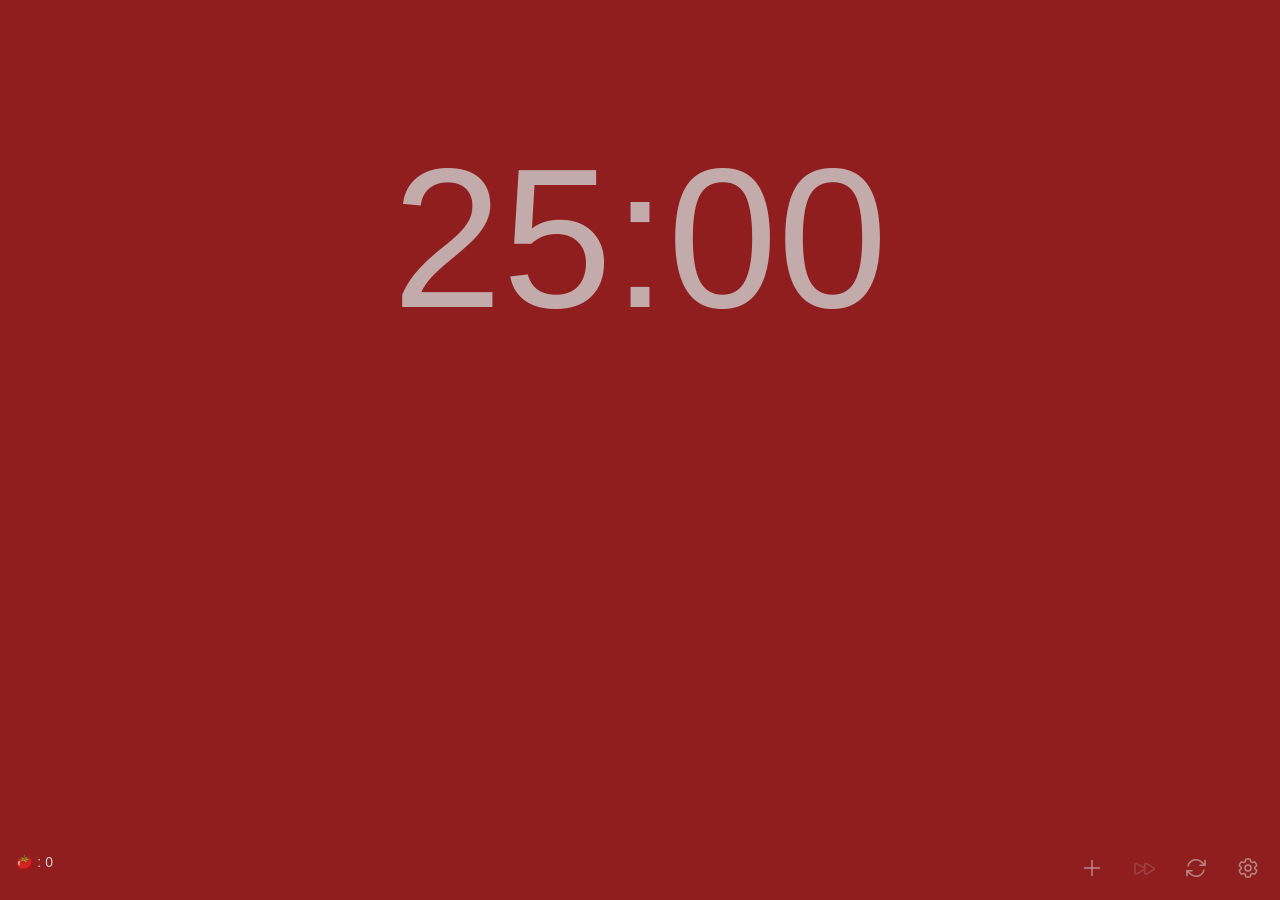
웹앱 (Tauri 브리지 없음) › 설정 버튼은 위젯 위 모달로 설정을 열고, 저장하면 새 시간이 남은 시간에 반영되며 닫힌다
Click the button titled "설정" at (1248,868), box [1228,848,1268,888]
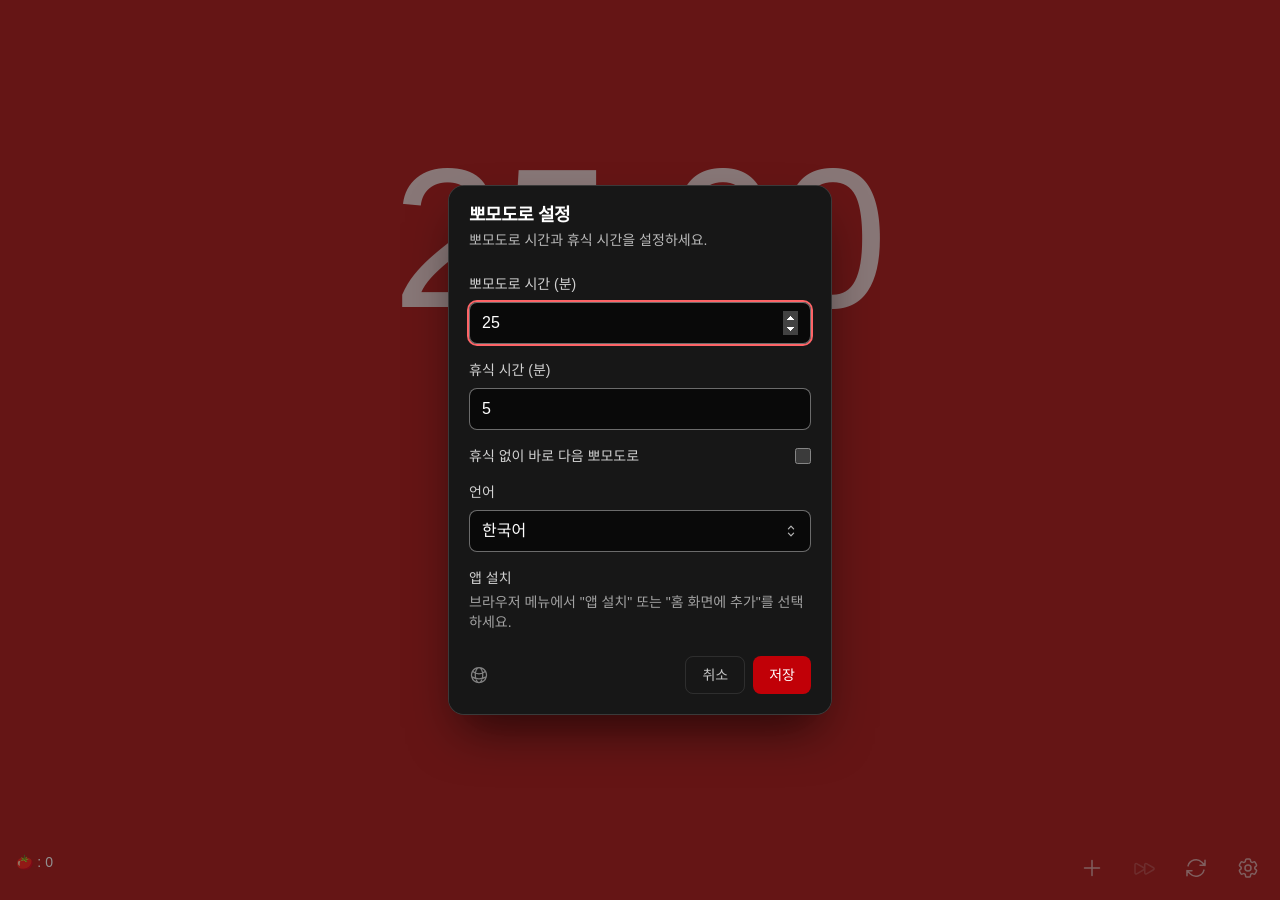
Replace the text in the number field labelled "뽀모도로 시간 (분)" with "30" at (640,323), box [469,302,811,344]
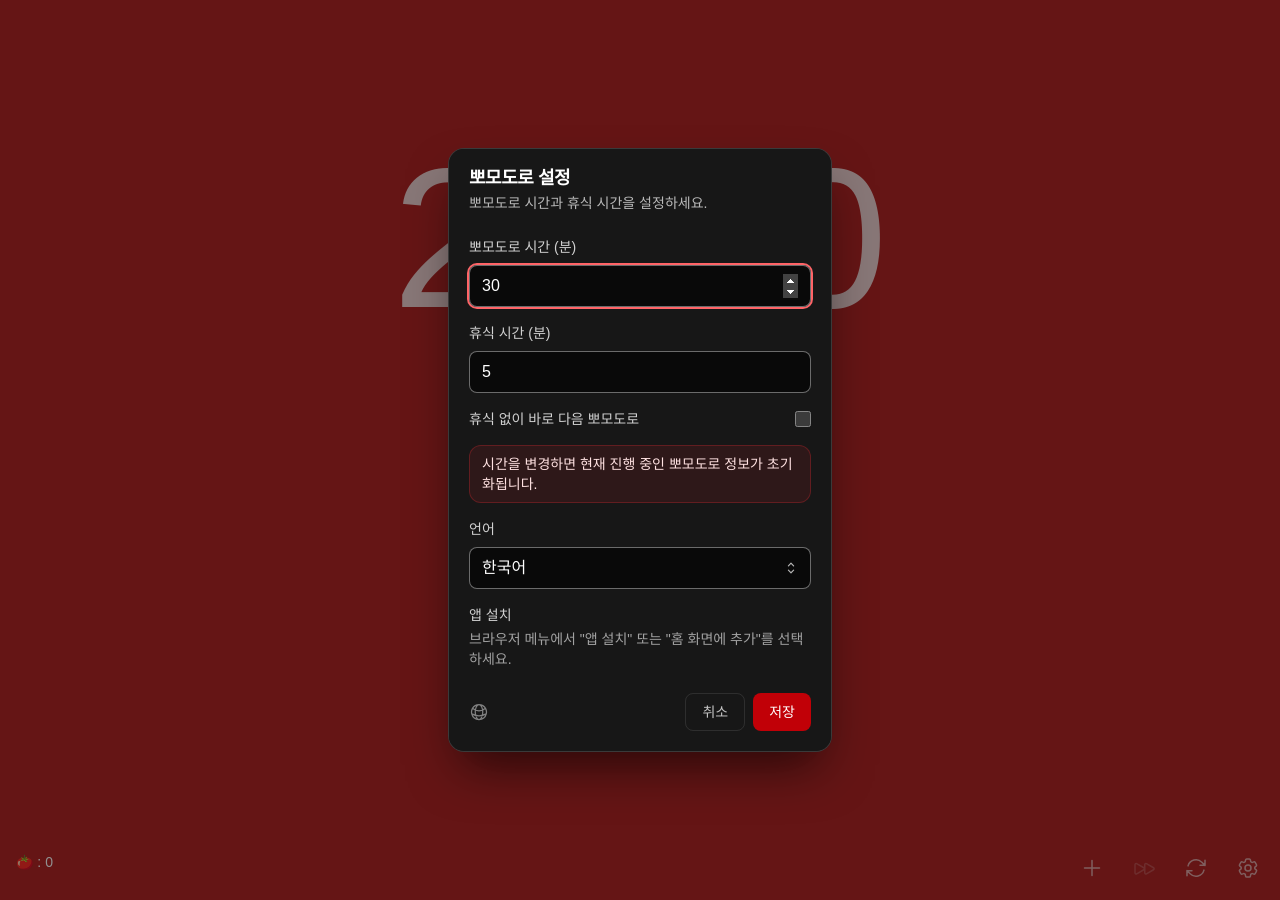
Click the button "저장" at (782,712), box [753,693,811,731]
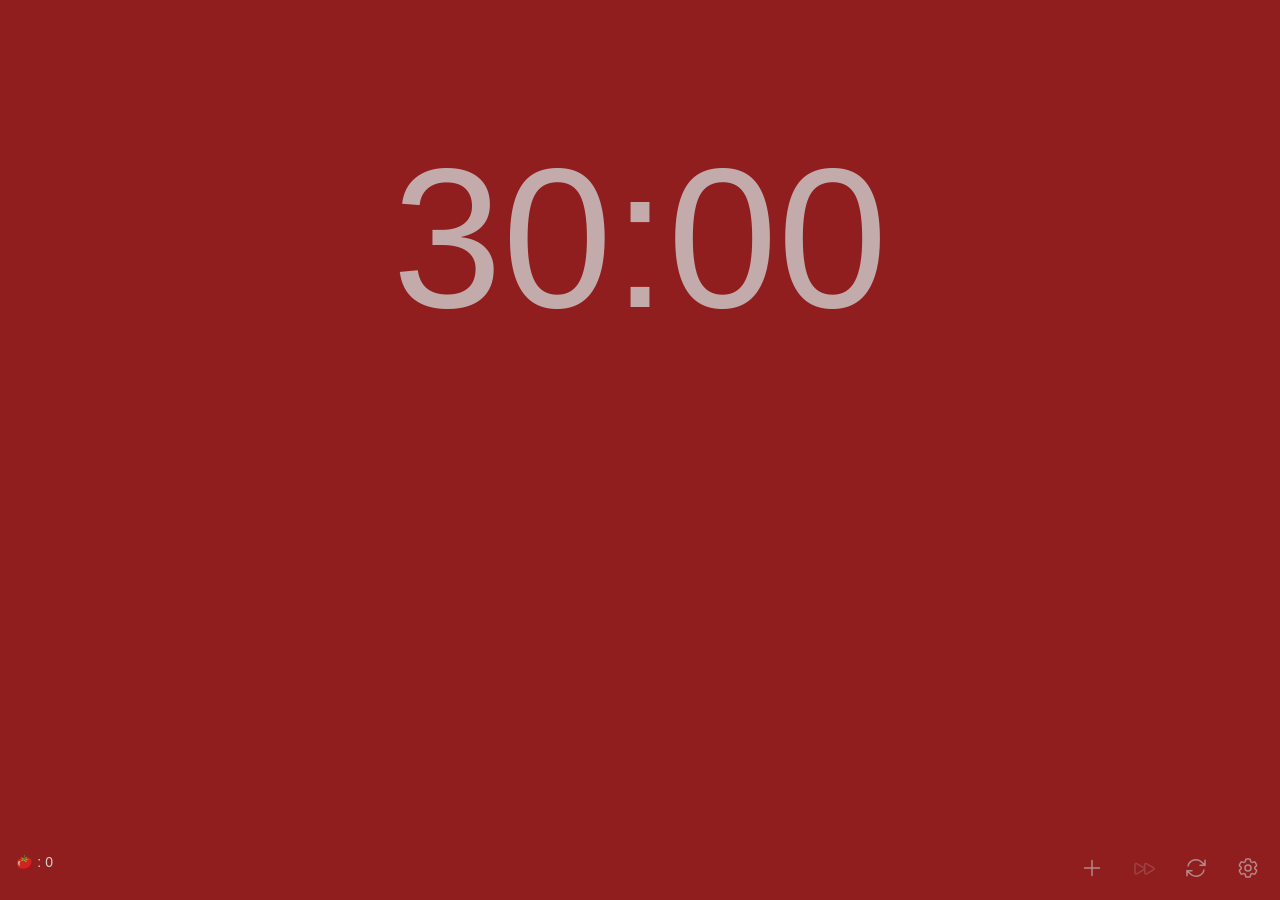
Expected: the dialog is gone
Expected: the text "30:00" is shown, [392,128,888,349]
